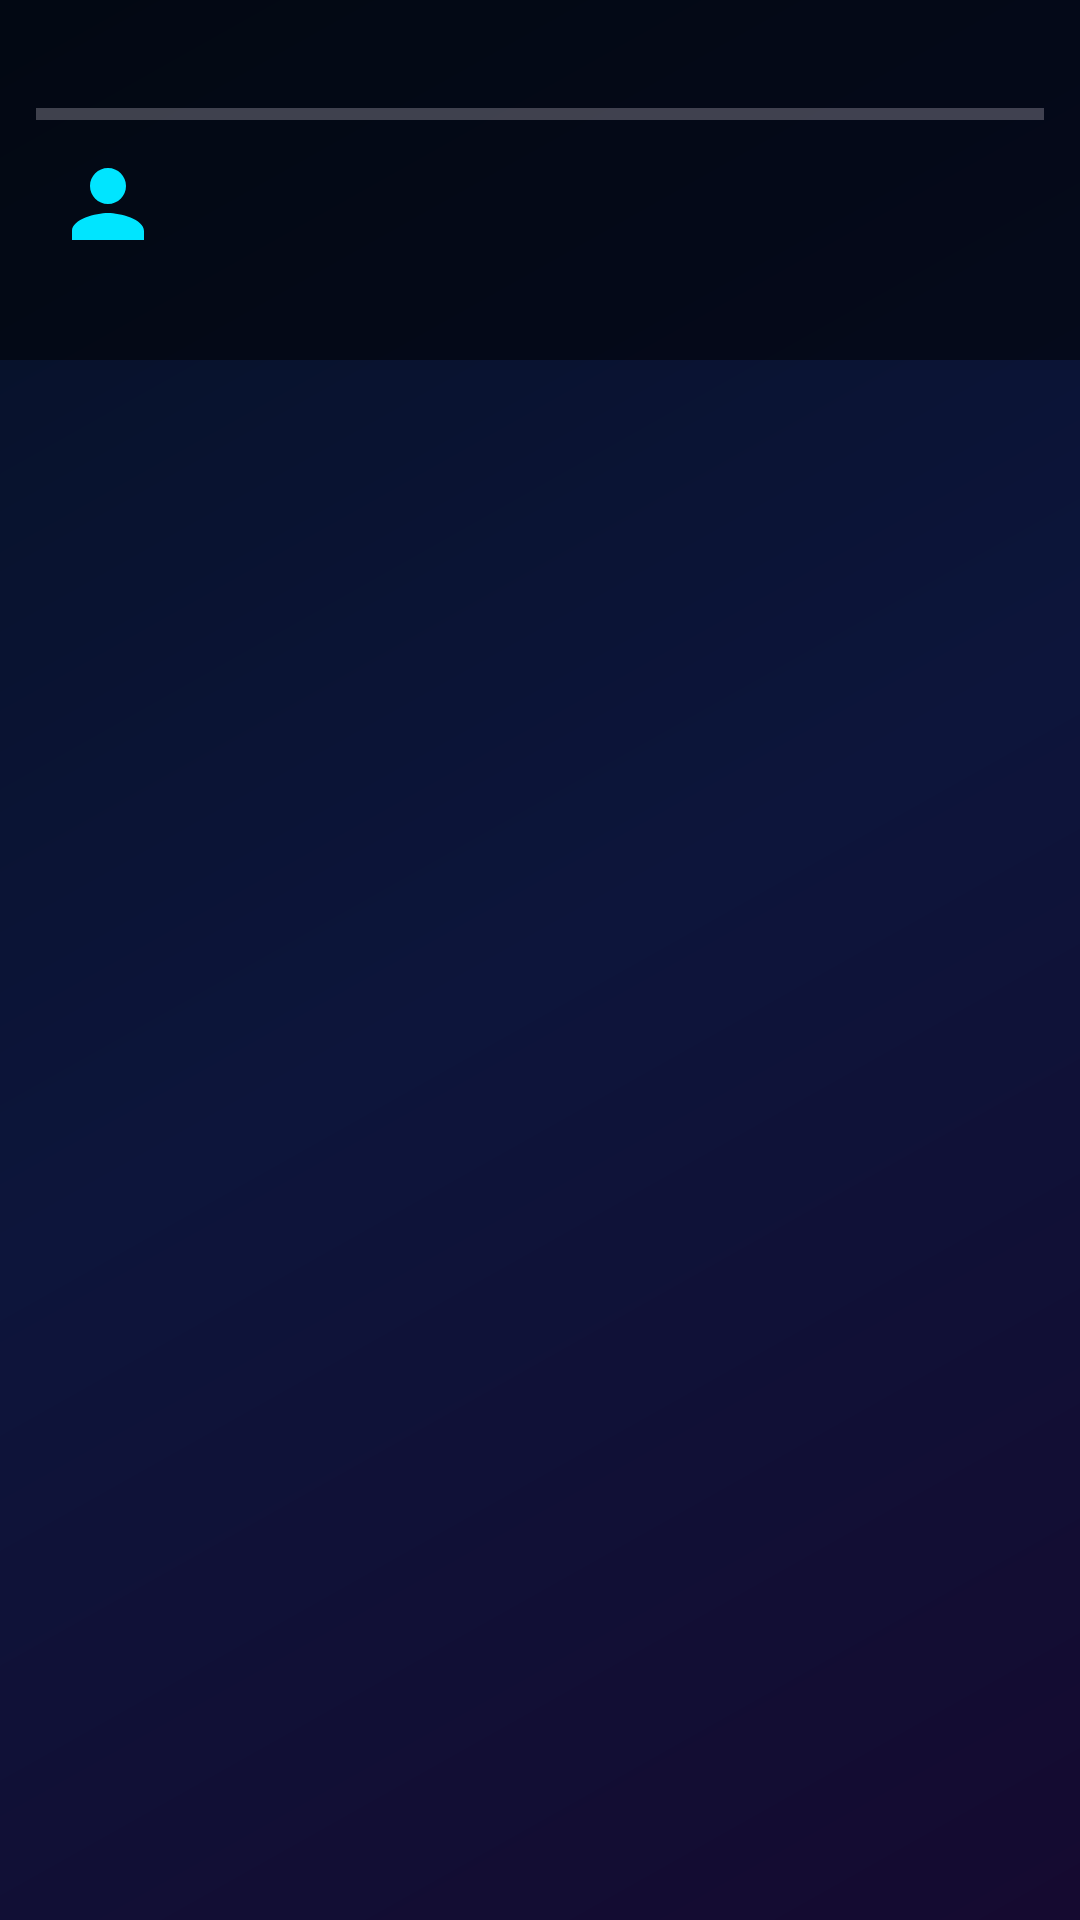

Screen size 1080px x 1920px. Icon name, then its center in pixels as [x,y]:
person: [108,204]
